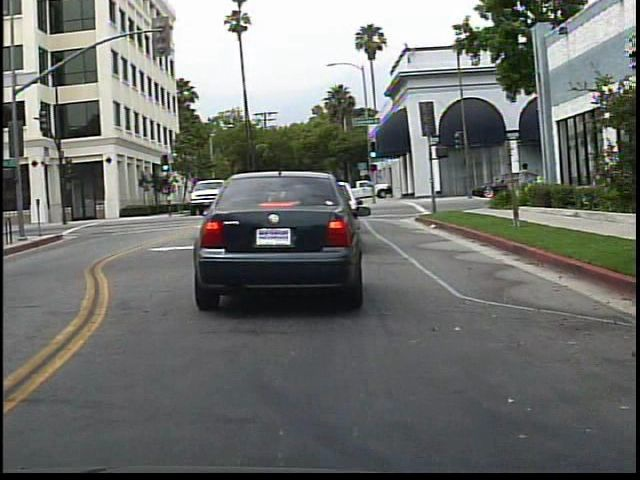person: (508, 159, 536, 207)
